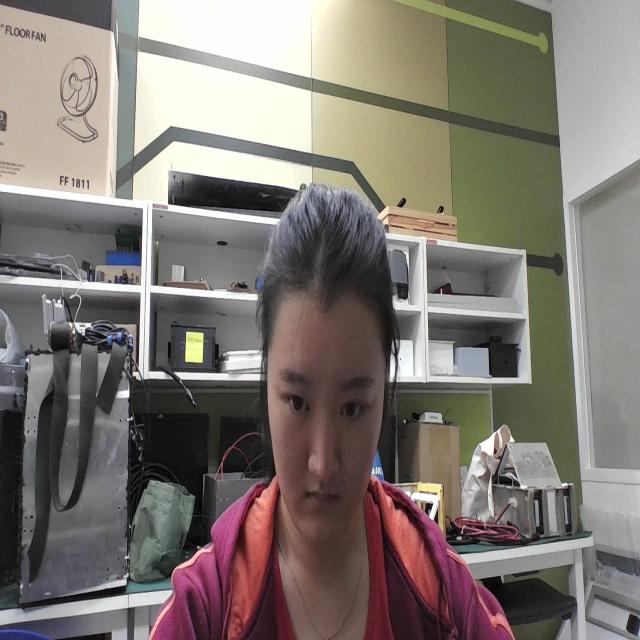Without Helmet: (240, 163, 440, 568)
